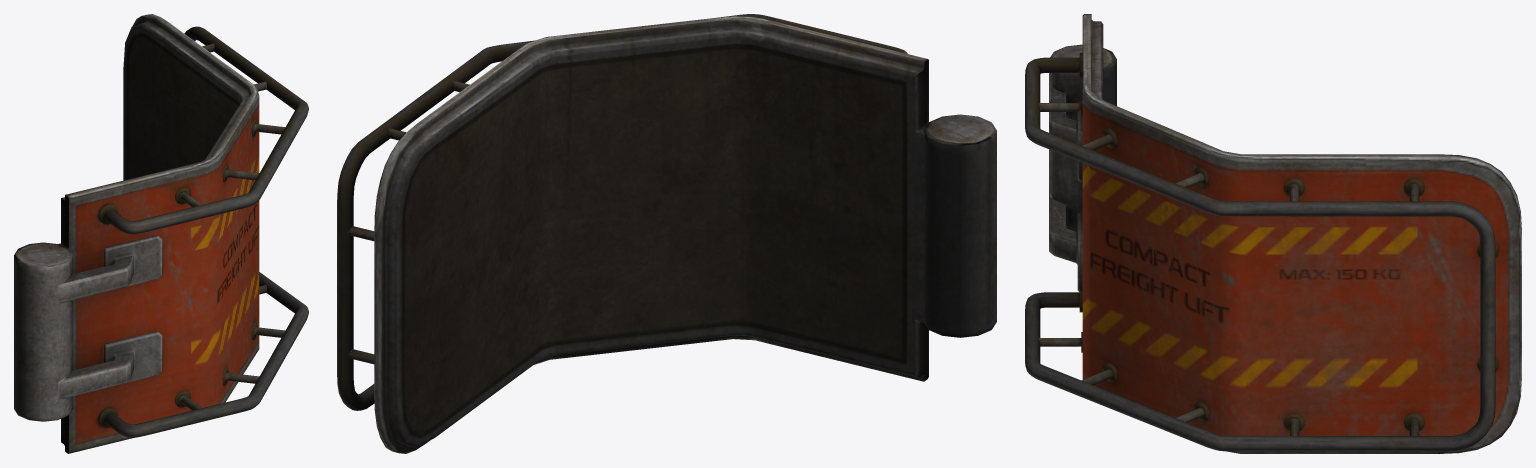
File: cargo_elevator_tau_door.dae
The picture shows the model from 3 angles, left to right: view 1: azimuth 30°, elevation 25°; view 2: azimuth 150°, elevation 25°; view 3: azimuth 270°, elevation 25°; orthographic projection. The views are drawn at different scales.
Visible parts, largest first — view 1: door; view 2: door; view 3: door.
Part boxes in pixels (x1,y1,x2,y2): door: (14, 14, 308, 453); door: (337, 14, 996, 453); door: (1025, 14, 1521, 453).
Bounding box in the file's own units: 2.01 × 1.41 × 2.14.
